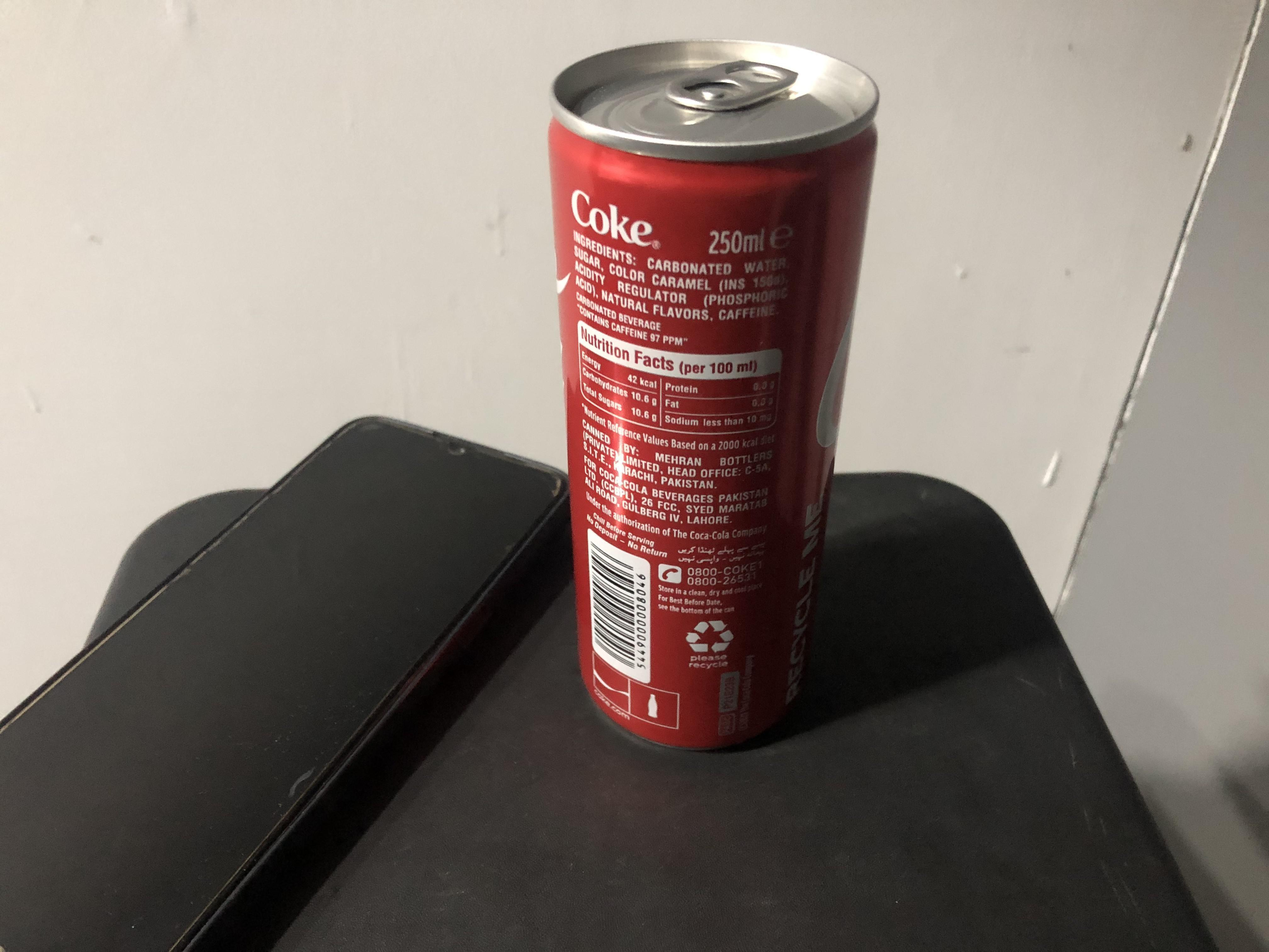tin can: (548, 34, 884, 762)
